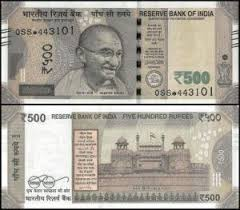fiveHundred: (13, 19, 224, 88)
